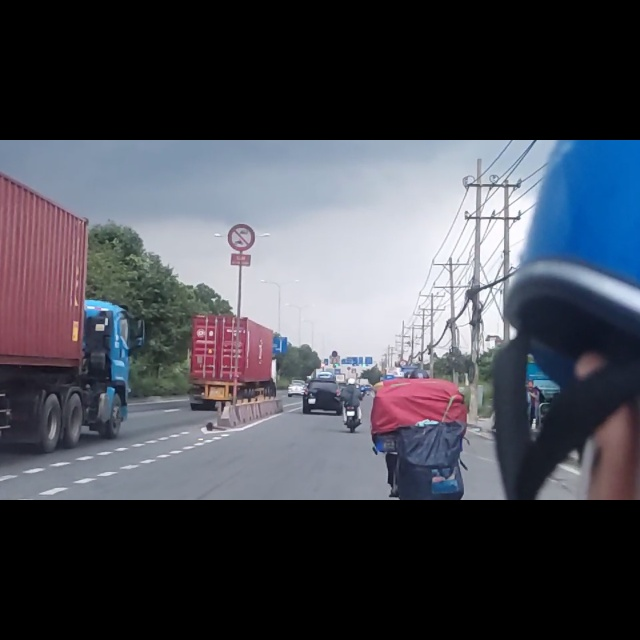bien_cam: (228, 149, 255, 197)
